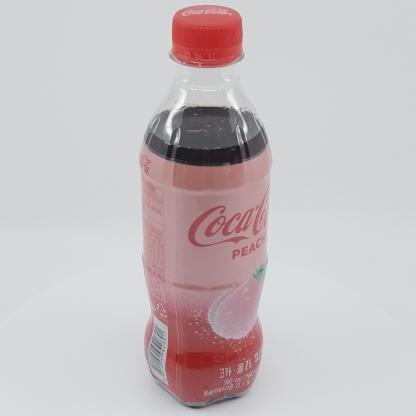-----------390ML: (139, 5, 273, 406)
